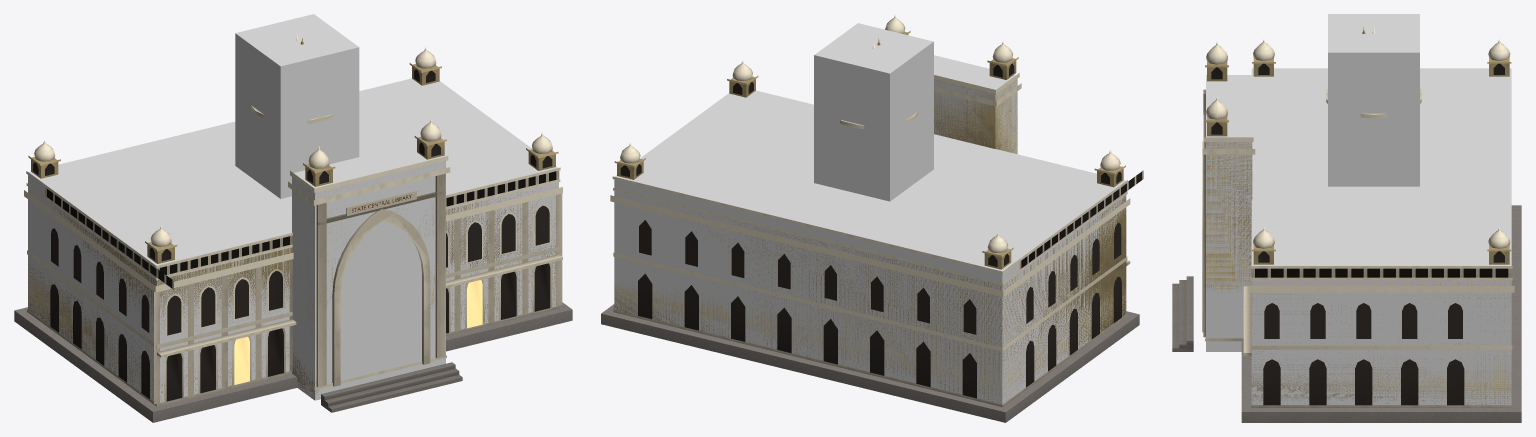
The model's file is state_central_library.glb.
3 views of the same model, side by side, from view 1: azimuth 30°, elevation 25°; view 2: azimuth 150°, elevation 25°; view 3: azimuth 270°, elevation 25° (orthographic). The views are drawn at different scales.
Visible parts, largest first — view 1: COL_state_central_library, state_central_library_body; view 2: COL_state_central_library, state_central_library_body; view 3: COL_state_central_library, state_central_library_body.
Boxes of the visible parts, bbox=[...] form: COL_state_central_library: bbox=[28, 14, 558, 402]; state_central_library_body: bbox=[14, 33, 572, 422]; COL_state_central_library: bbox=[614, 23, 1126, 404]; state_central_library_body: bbox=[601, 14, 1143, 422]; COL_state_central_library: bbox=[1206, 14, 1511, 404]; state_central_library_body: bbox=[1172, 26, 1521, 422].
Size of the model in its own units: 96 by 63.65 by 68.6.
7 materials, 7 textured.
